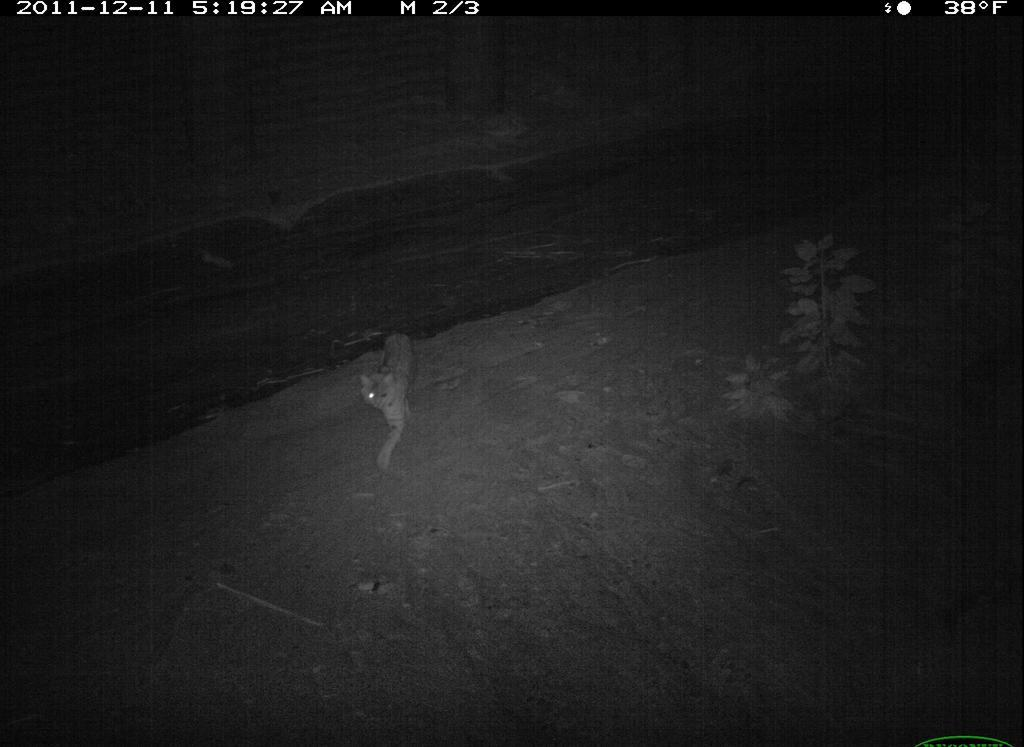bobcat: (358, 326, 423, 477)
